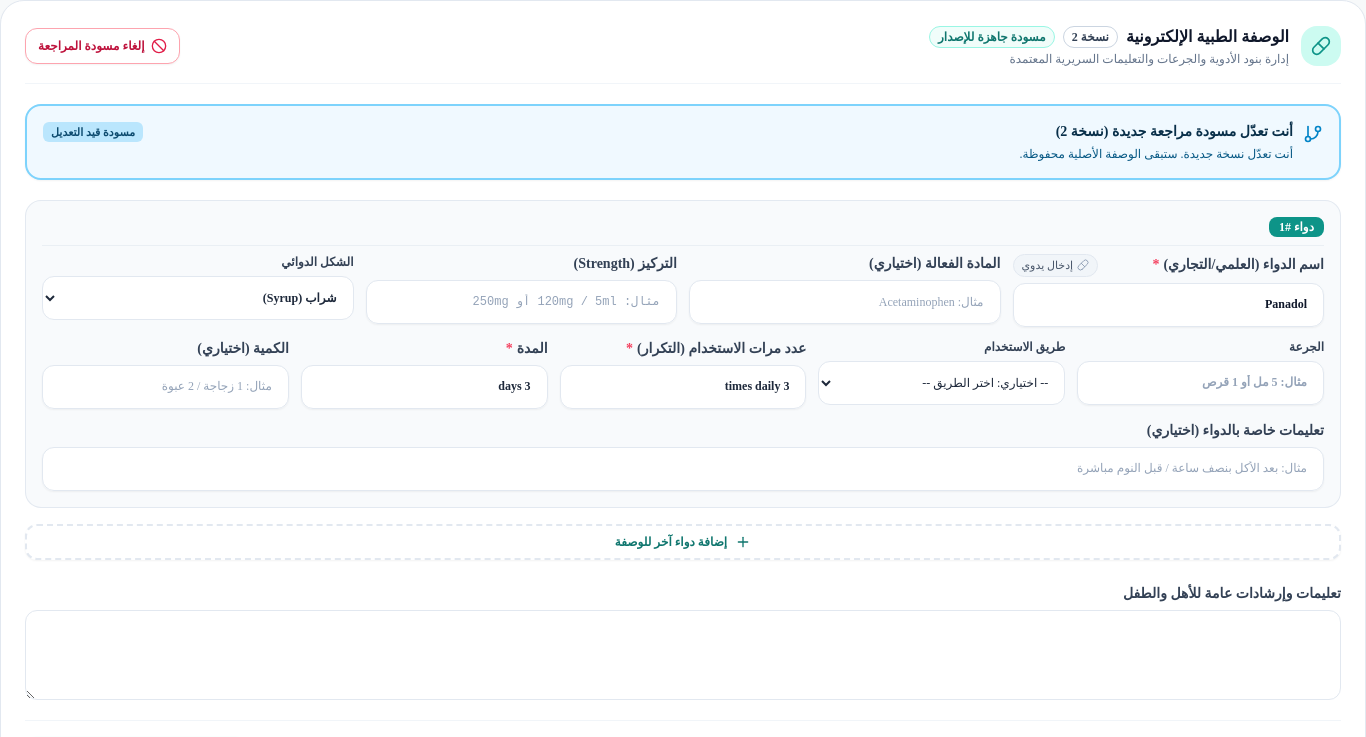
Prescription Revision Cancellation Workflow (إلغاء مسودة مراجعة الوصفة الطبية) › 3. ElectronicPrescriptionSection UI Cancellation Workflow › on RPC failure, keeps v2 draft open and displays clear error message
What coordinates should you click on to do the following:
click the button with test id "cancel-revision-draft-btn"
I would click on:
 (102, 46)
Its box is [25,28,180,64].
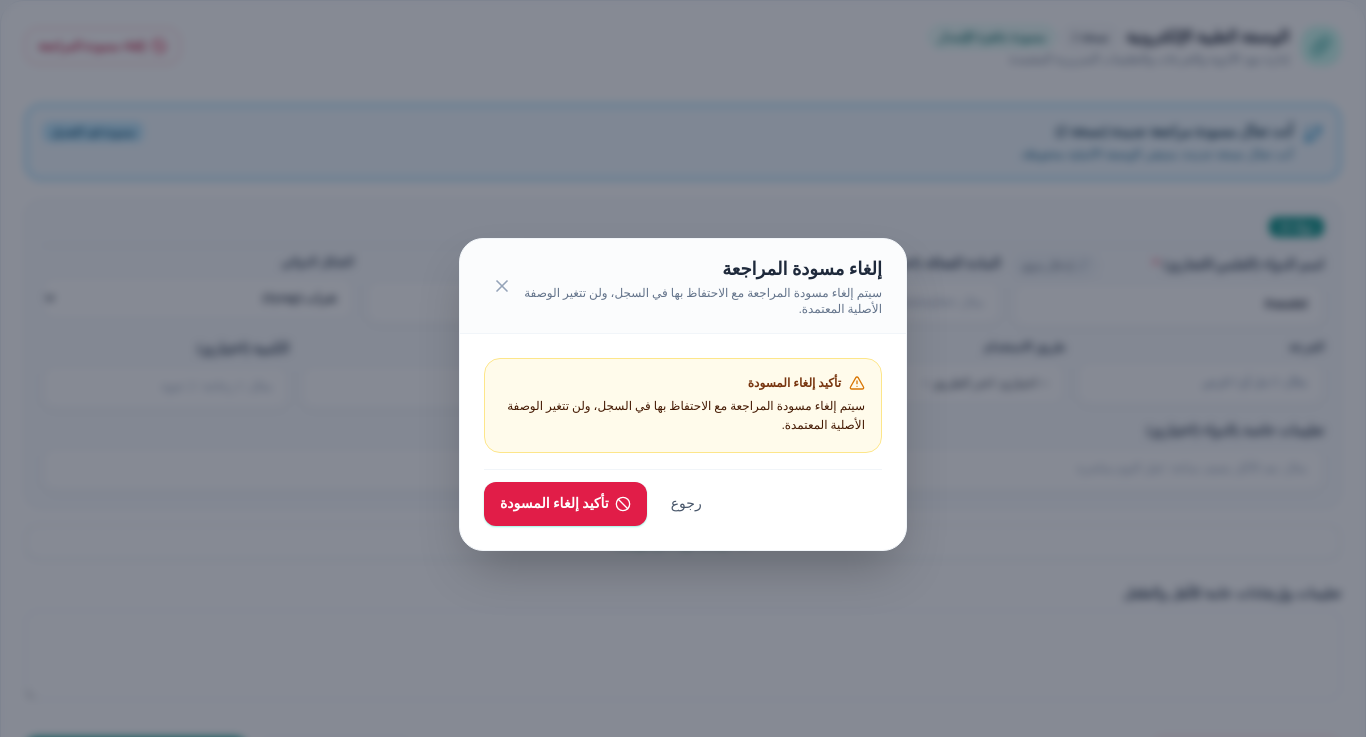
What coordinates should you click on to do the following:
click the button with test id "confirm-cancel-revision-draft-btn"
I would click on:
 (565, 504)
Its box is [484,482,647,526].
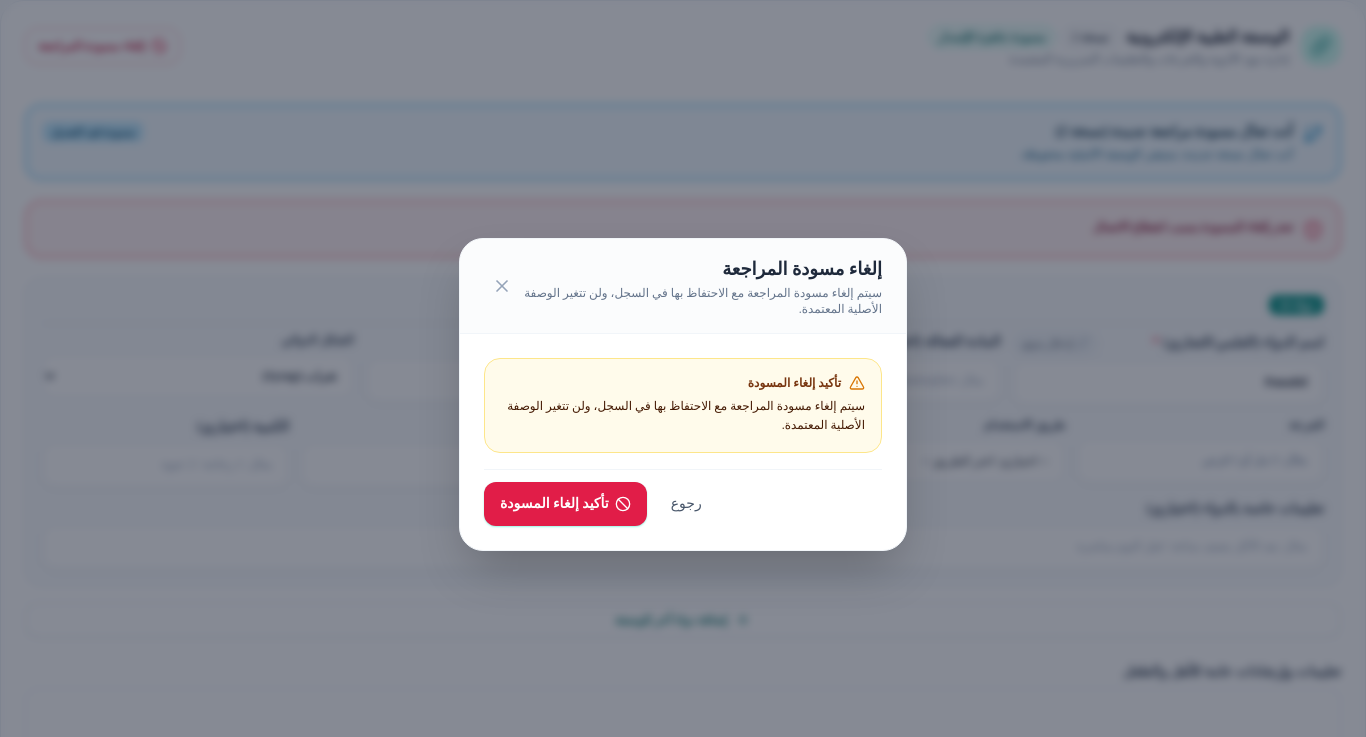
Expected: the element with test id "rx-revision-draft-banner" is shown, [25,104,1341,180]
Now the element with test id "rx-error-alert" is shown, box [25,200,1341,258]
Now the text "تعذر إلغاء المسودة بسبب انقطاع الاتصال" is shown, box [1093,220,1293,234]
